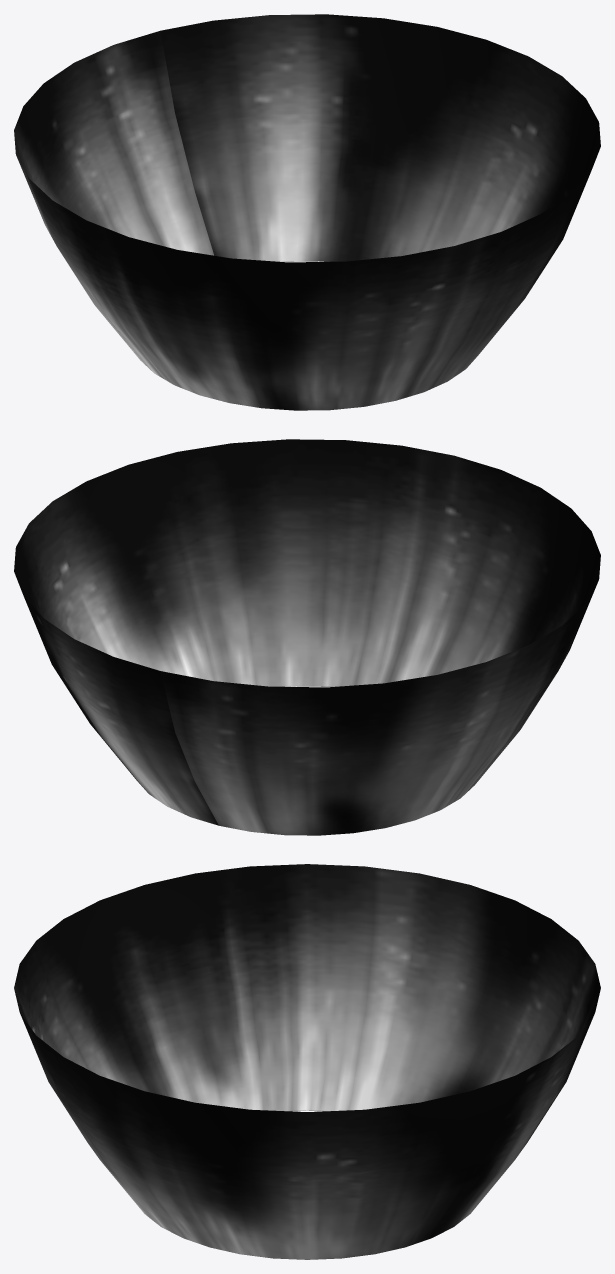
The model's file is yuanpian2.FBX.
3 views of the same model, one above another, from view 1: azimuth 30°, elevation 25°; view 2: azimuth 150°, elevation 25°; view 3: azimuth 270°, elevation 25° (orthographic).
Visible parts, largest first — view 1: Sphere001; view 2: Sphere001; view 3: Sphere001.
Boxes of the visible parts, <box> form: Sphere001: <box>14,14,600,410</box>; Sphere001: <box>14,439,600,835</box>; Sphere001: <box>14,864,600,1259</box>.
Size of the model in its own units: 18.48 by 6.85 by 18.48.
